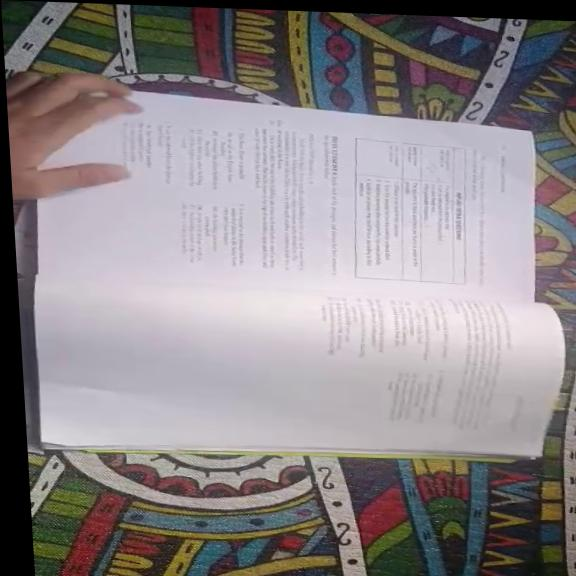Kertas: (38, 94, 533, 302), (21, 279, 573, 464), (34, 281, 563, 456)
